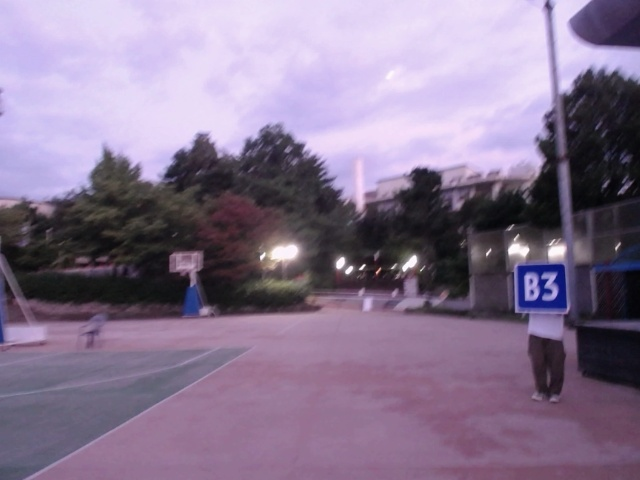delivery_b3: (515, 262, 571, 315)
